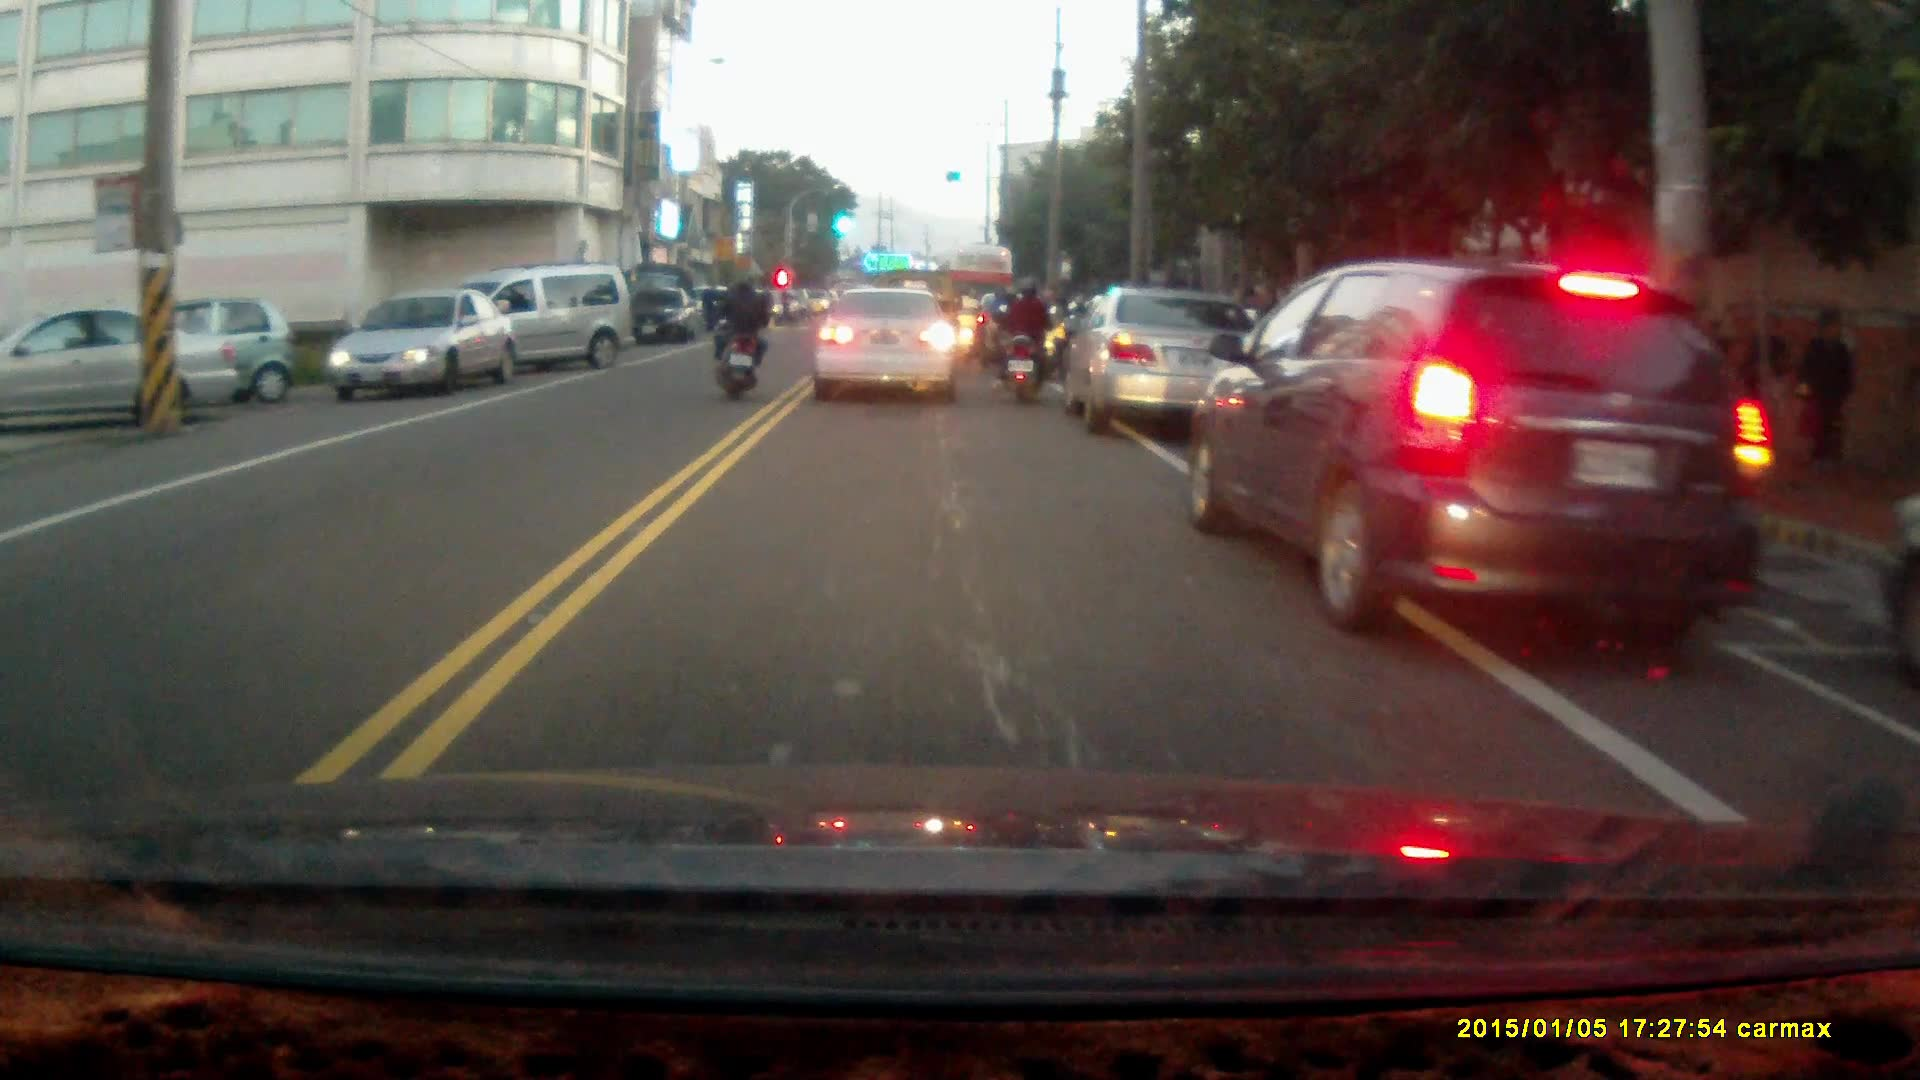pedestrian: (1797, 308, 1851, 472), (1740, 307, 1790, 455)
rider: (992, 270, 1058, 405), (709, 273, 770, 397)
vehicle: (1187, 255, 1799, 637), (1, 306, 251, 430), (1059, 282, 1267, 429), (418, 262, 634, 382), (66, 295, 293, 409), (326, 288, 517, 400), (808, 285, 964, 401), (625, 286, 692, 347)
